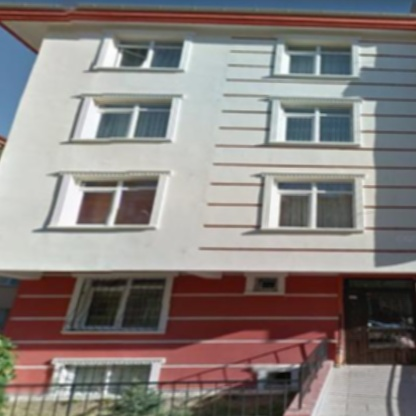door: (344, 278, 416, 363)
